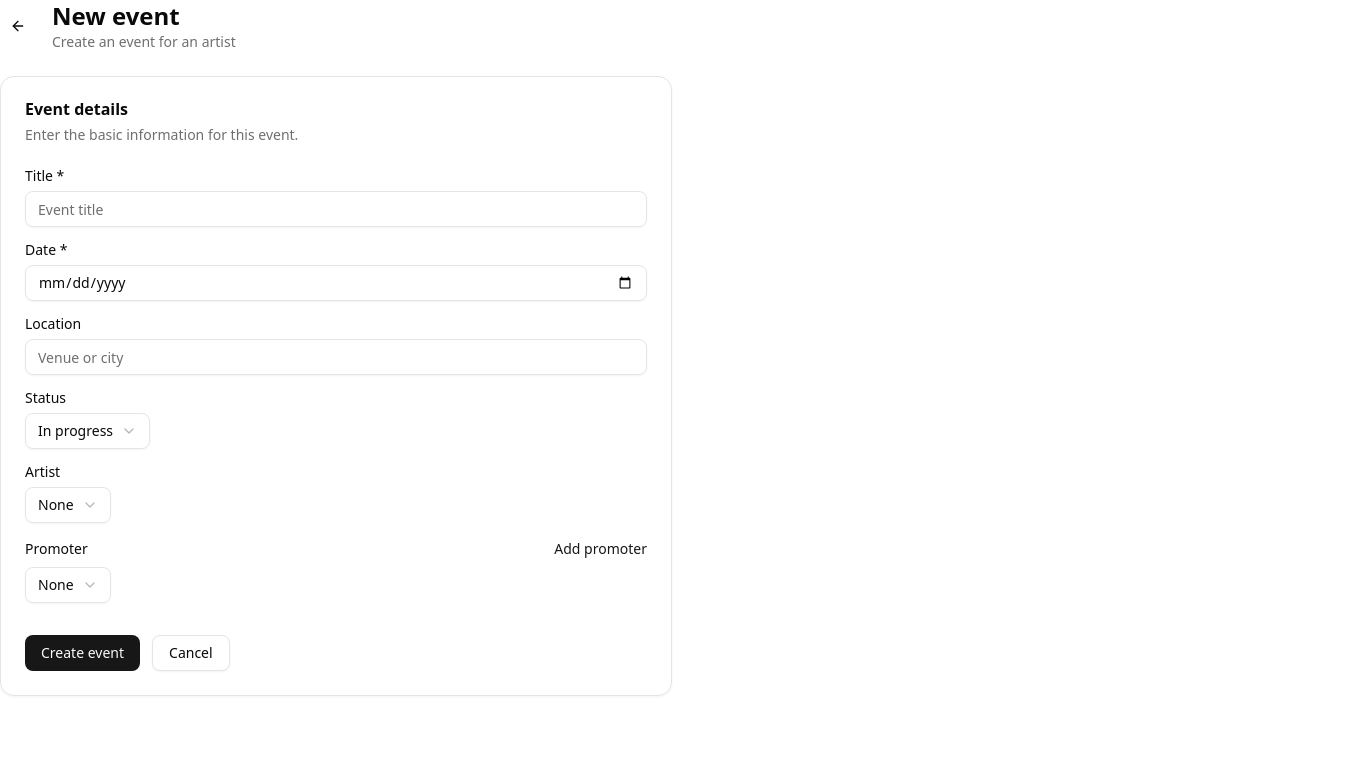
Scenario: keeps the add promoter dialog open while its save is in flight
Later steps or results of the test are not shown.
Step 1. Click the button "Add promoter" → (601, 549), box [554,539,647,559]
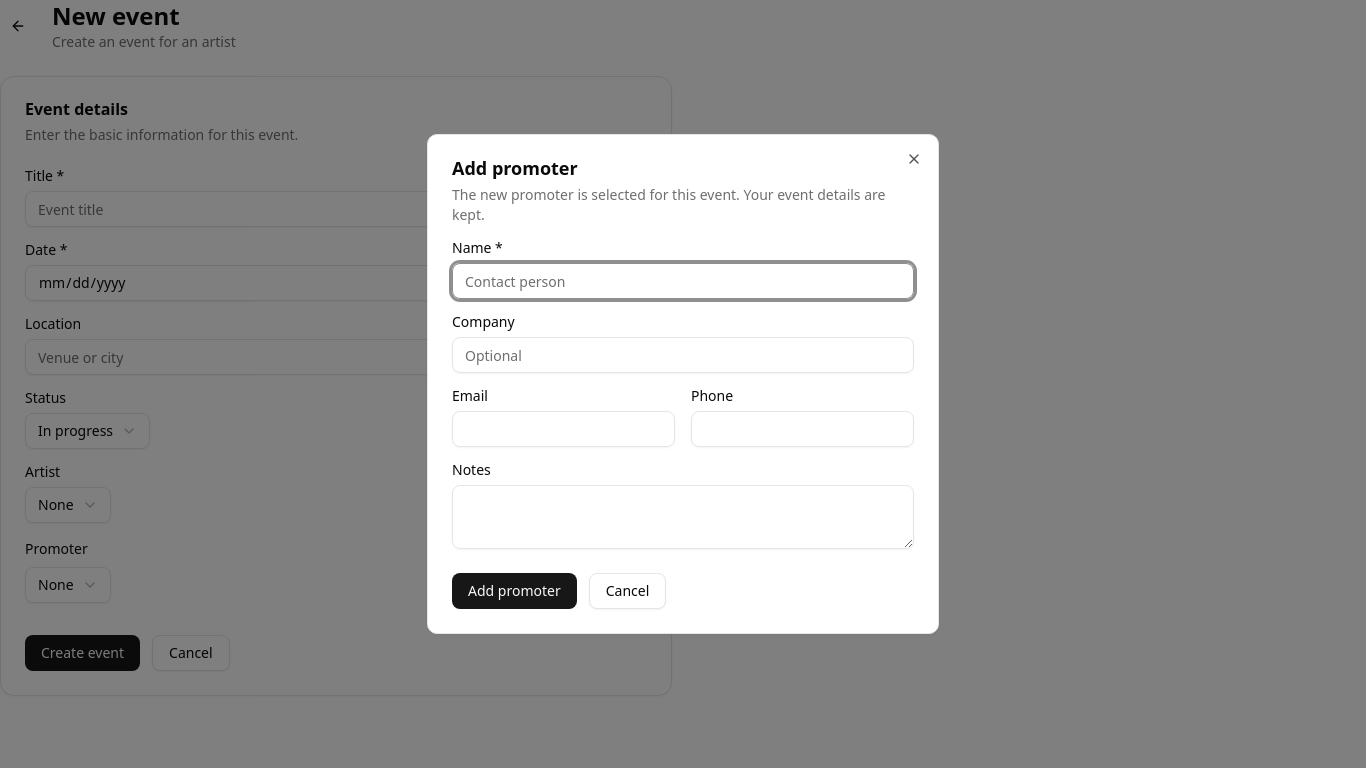
Expected: the button named "Close" is shown, [906,151,922,167]
Step 2. Type "Marta Rossi" into the field labelled "Name *" → (683, 281), box [452,263,914,299]
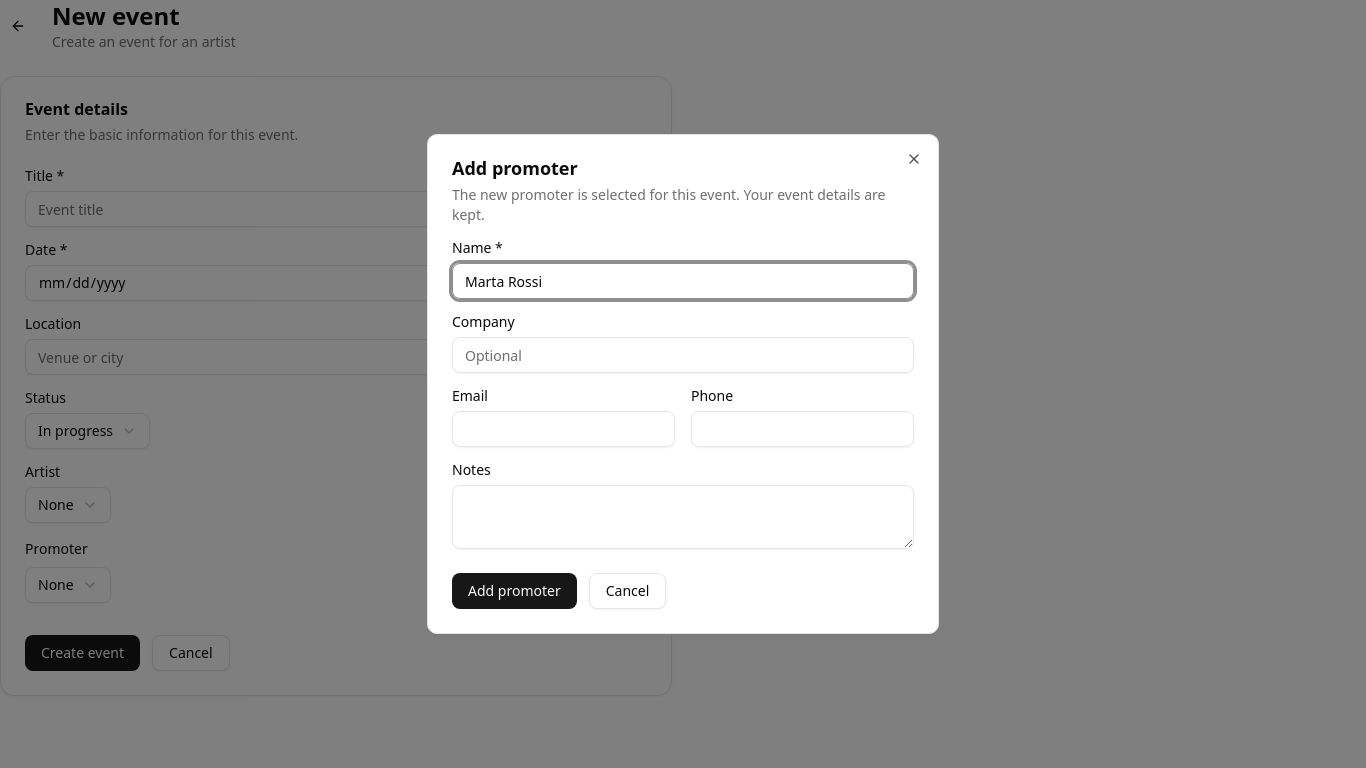
Step 3. Click the button "Add promoter" → (514, 591), box [452,573,577,609]
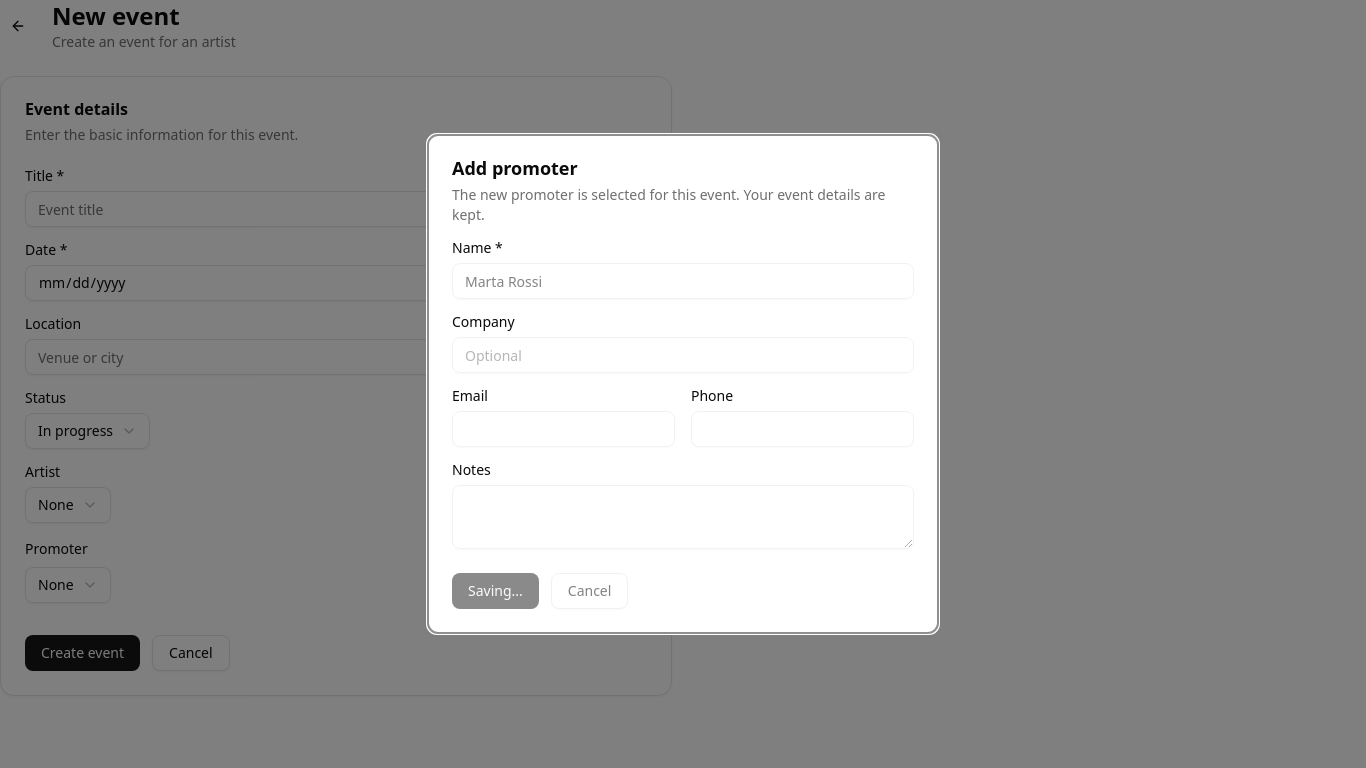
Expected: the button "Close" is not shown
Expected: the button "Saving..." is shown, [452,573,539,609]
Step 4. Press Escape in the dialog "Add promoter", box [427,134,939,634]
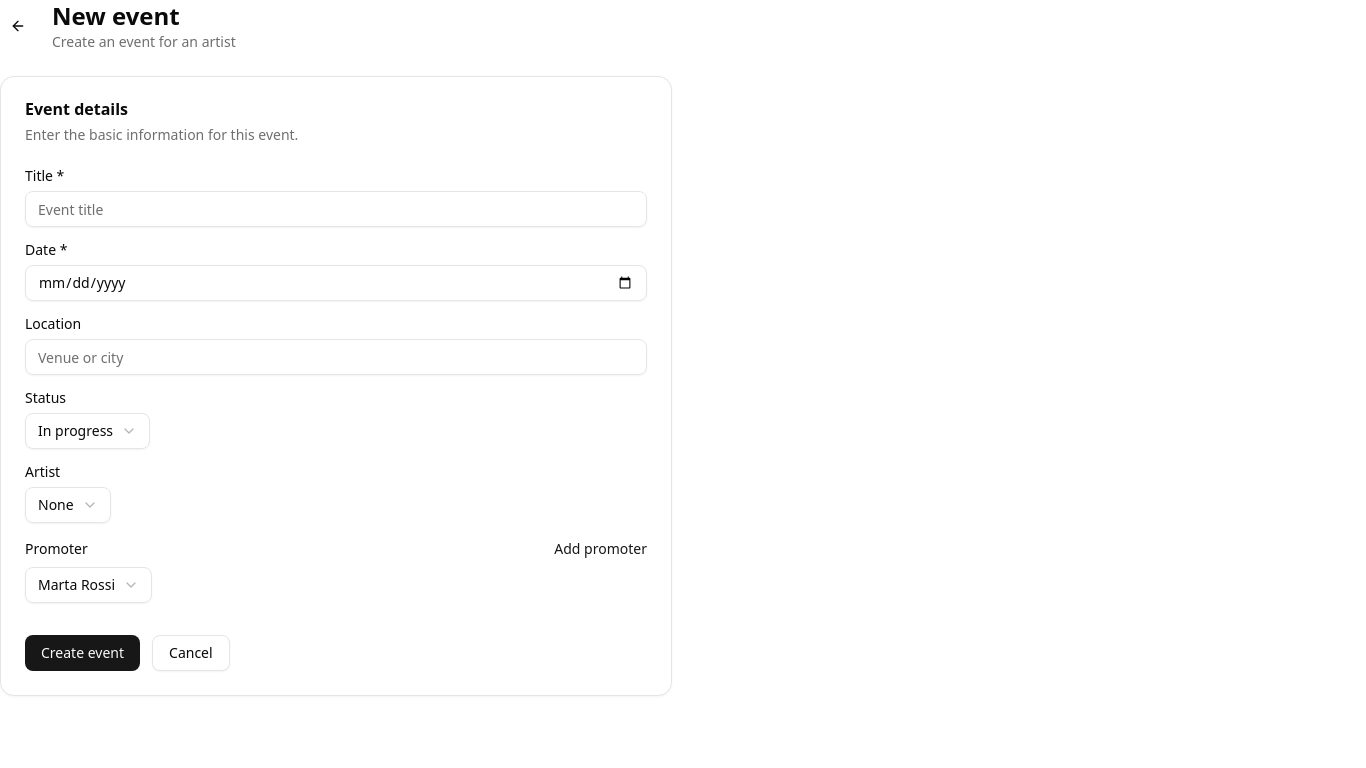
Expected: the dialog is gone
